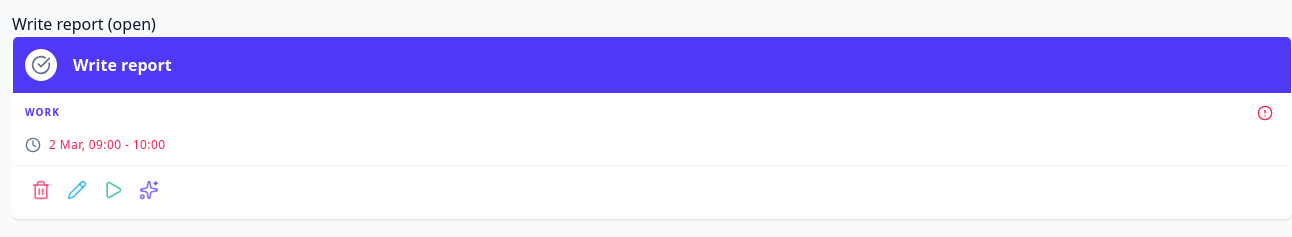
Test case: completing a task › sends the completion, then refetches tasks and stats so every screen agrees
Expected: the list item "Write report (open)" is shown, [12,13,156,35]
Click the button named "Mark task as completed".
click(41, 65)  # box [25,49,57,81]
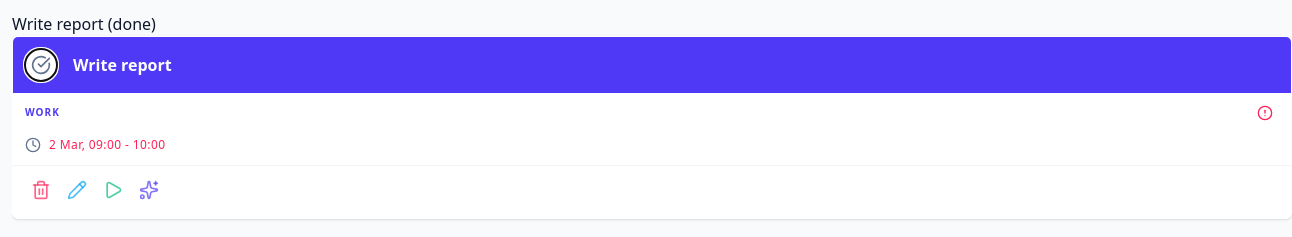
Result: the list item "Write report (done)" is shown at [12,13,156,35]
